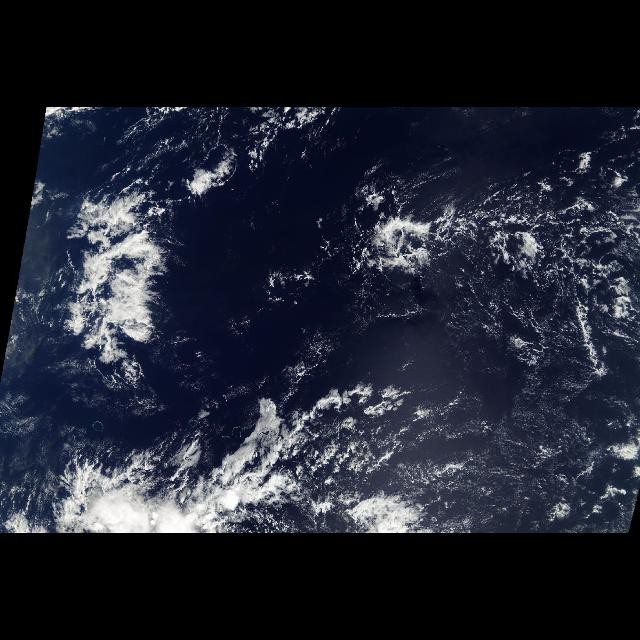Flower: (354, 182, 434, 284)
Gravel: (352, 158, 640, 322), (284, 388, 408, 482)
Sugar: (454, 303, 600, 531)
